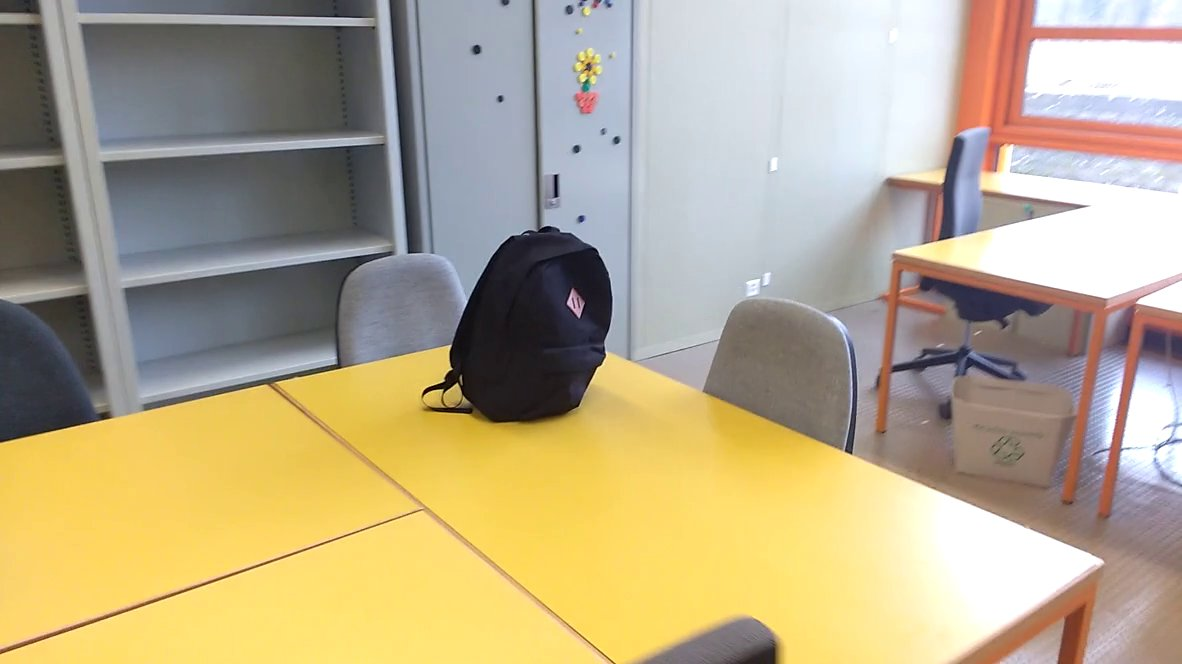bag: (411, 222, 619, 427)
box: (933, 370, 1087, 503)
chair: (877, 110, 1049, 435), (683, 291, 882, 489), (315, 244, 494, 388)
